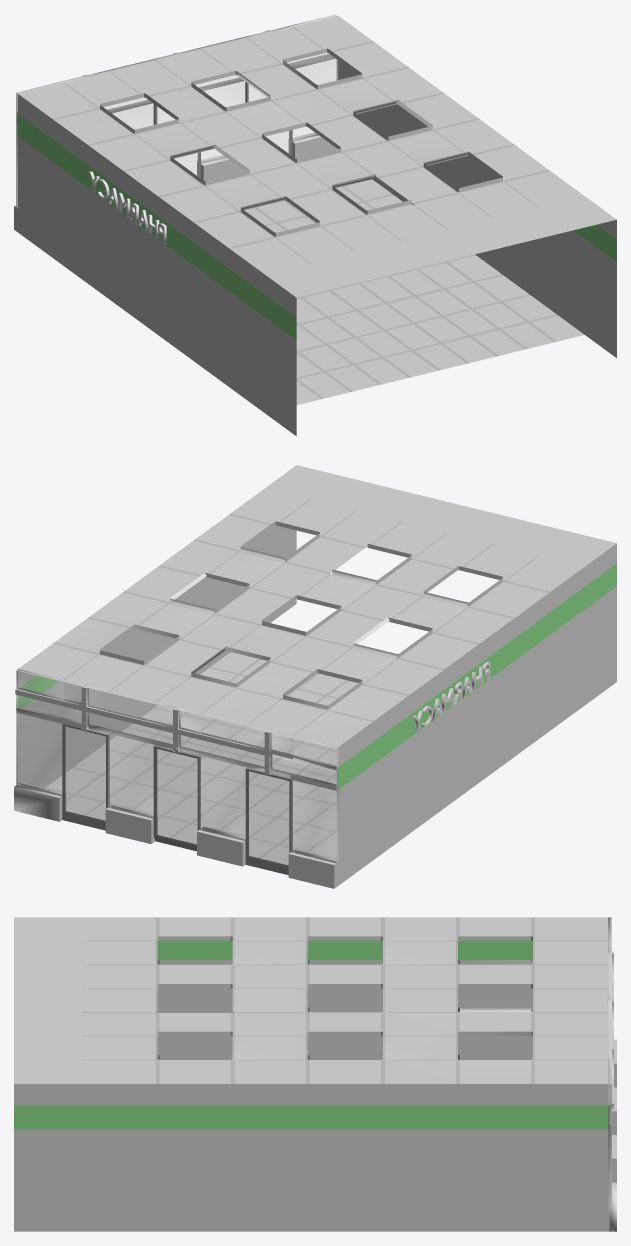
Rendered from PharmacyOutsideFBX.fbx.
The picture shows the model from 3 angles, top to bottom: view 1: azimuth 30°, elevation 25°; view 2: azimuth 150°, elevation 25°; view 3: azimuth 270°, elevation 25°; orthographic projection. The views are drawn at different scales.
Parts seen in each view (by area): view 1: Pharmacy, Pharmacy left, Doors.002, Doors.001; view 2: Pharmacy, Doors, Doors.002, Doors.001, Pharmacy left; view 3: Pharmacy.
Boxes of the visible parts, <box> form: Pharmacy: <box>14,14,616,436</box>; Pharmacy left: <box>88,171,166,244</box>; Doors.002: <box>245,81,292,156</box>; Doors.001: <box>153,104,200,178</box>; Pharmacy: <box>14,465,616,888</box>; Doors: <box>245,767,292,875</box>; Doors.002: <box>62,724,109,830</box>; Doors.001: <box>153,745,200,851</box>; Pharmacy left: <box>412,661,490,732</box>; Pharmacy: <box>14,917,616,1231</box>.
Bounding box in the file's own units: 1009 × 427 × 1529.
